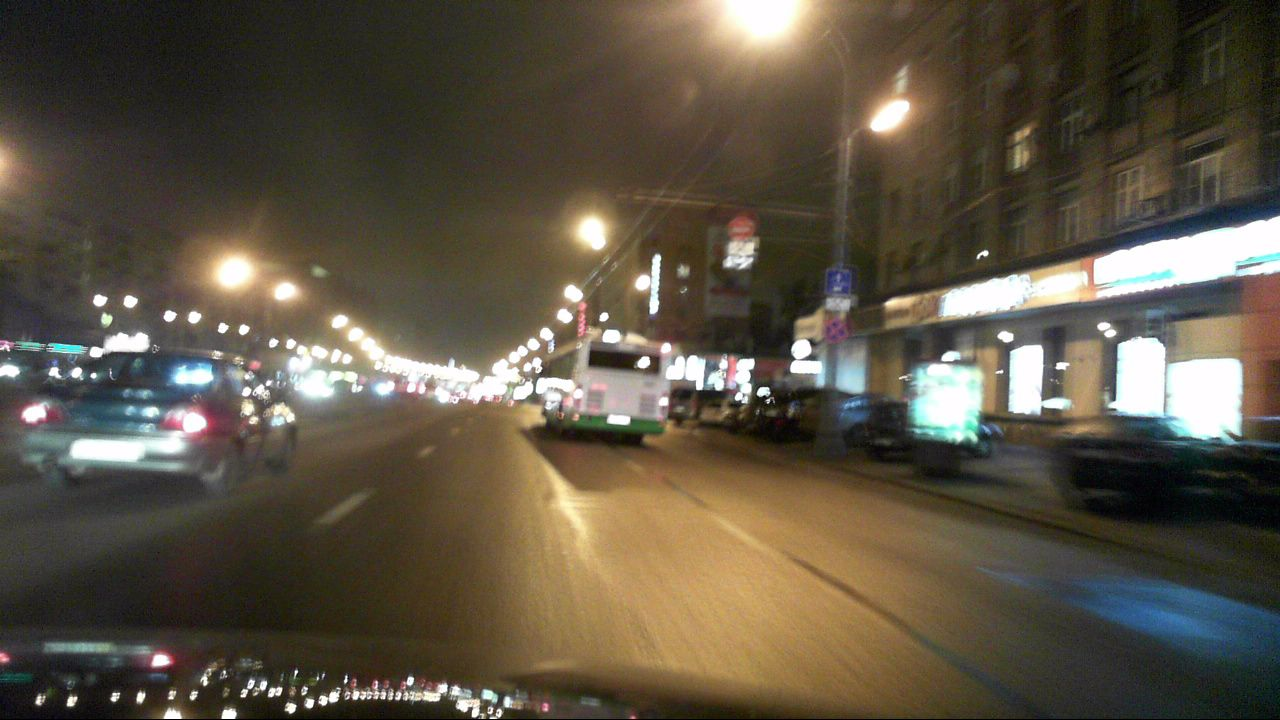No Parking: (822, 316, 848, 342)
